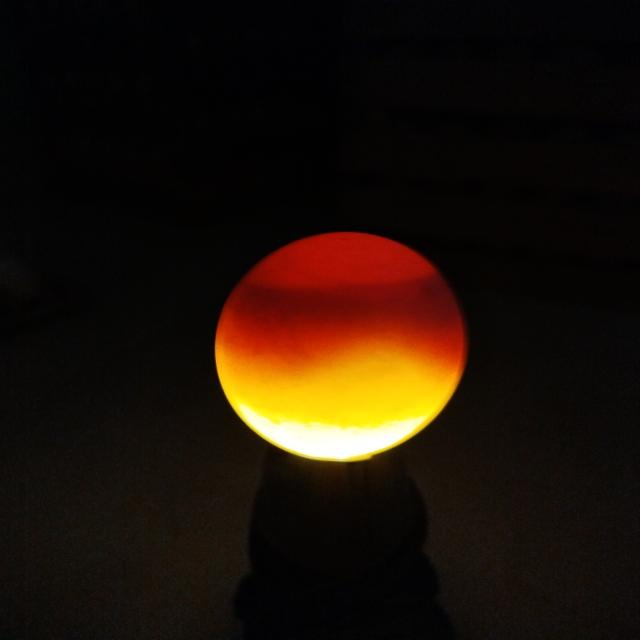Area Infectada: (228, 272, 455, 324)
